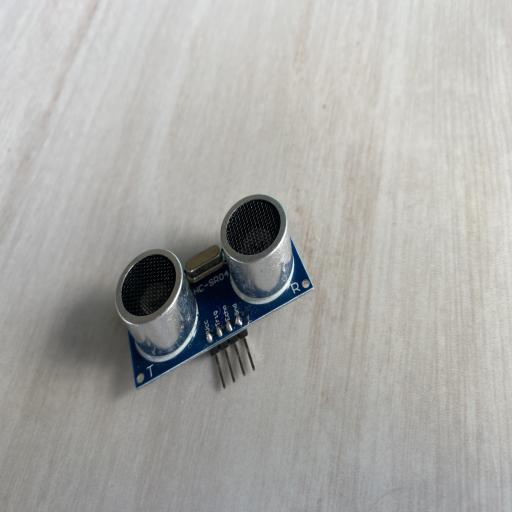Ultrasonic Sensor: (115, 194, 315, 392)
